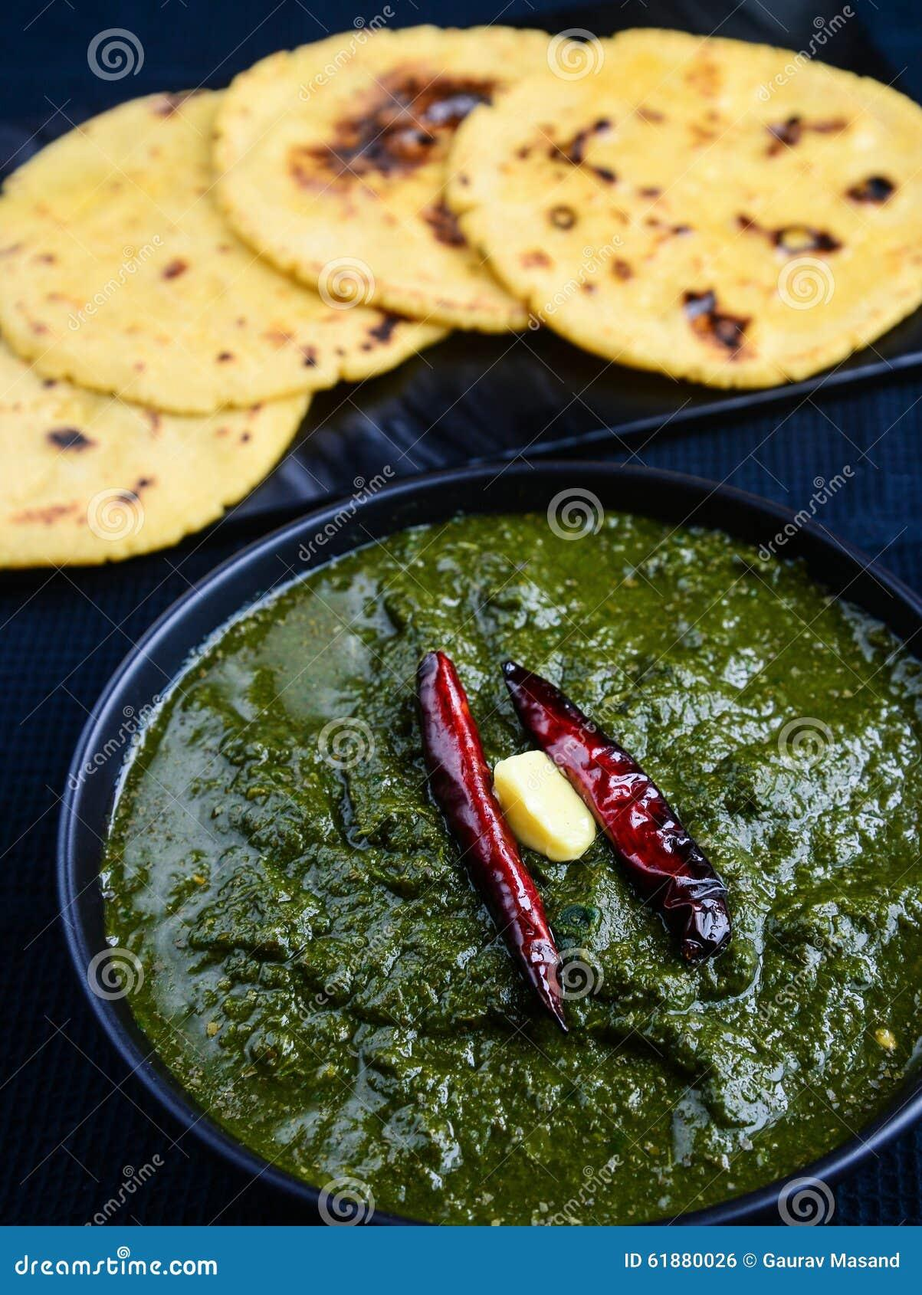saag: (100, 511, 922, 1221)
